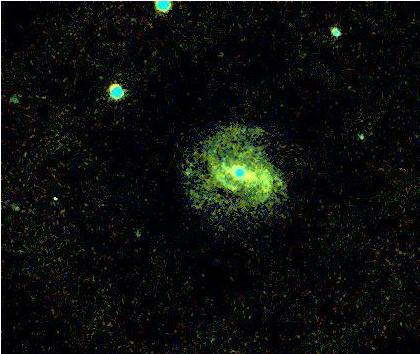star: (2, 192, 32, 222)
